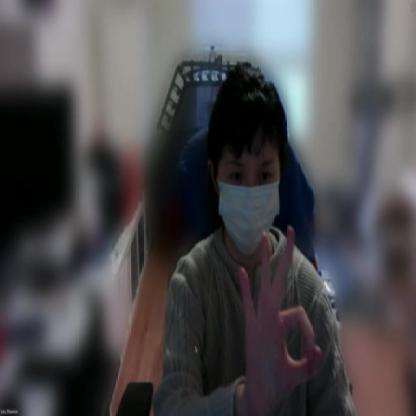nine: (236, 222, 324, 414)
